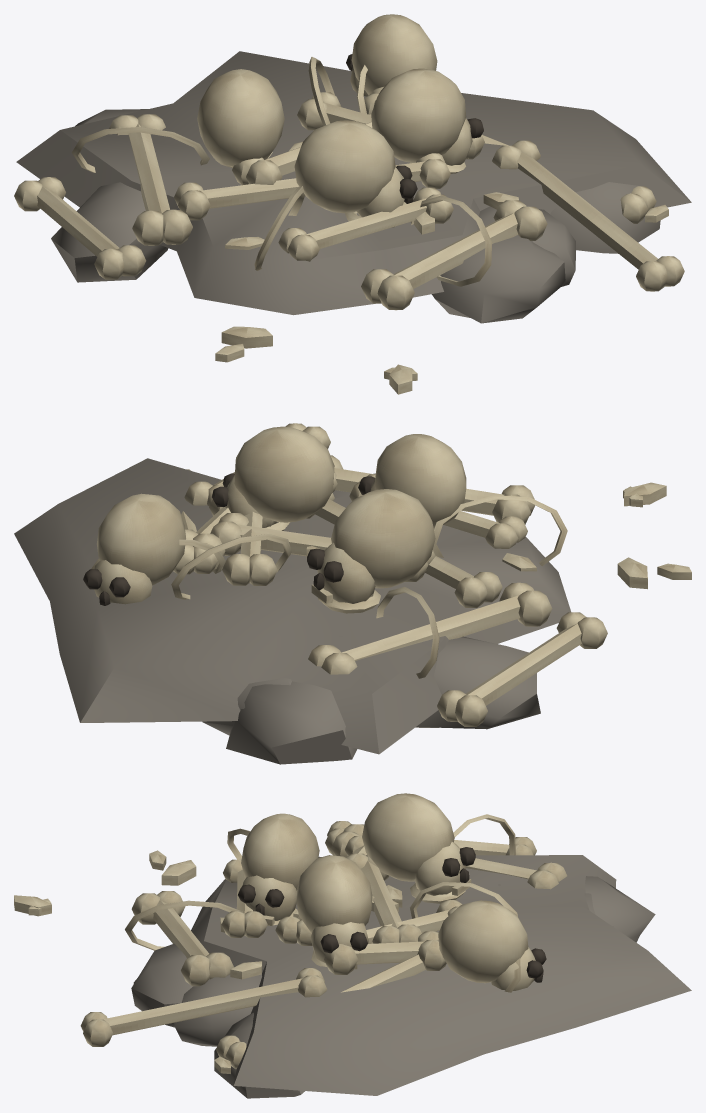
File: bone_scatter.glb
The picture shows the model from 3 angles, top to bottom: view 1: azimuth 30°, elevation 25°; view 2: azimuth 150°, elevation 25°; view 3: azimuth 270°, elevation 25°; orthographic projection. The views are drawn at different scales.
Parts seen in each view (by area): view 1: bone_scatter; view 2: bone_scatter; view 3: bone_scatter.
Boxes of the visible parts, x1=… form: bone_scatter: x1=14, y1=14, x2=691, y2=394; bone_scatter: x1=14, y1=423, x2=691, y2=764; bone_scatter: x1=14, y1=793, x2=691, y2=1098.
Size of the model in its own units: 1.18 by 0.3786 by 1.37.
3 materials, 1 textured.
